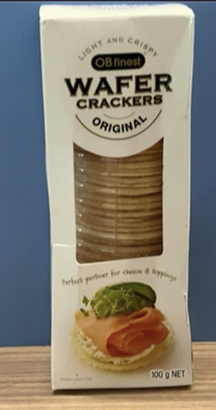crackers_150g: (55, 34, 188, 380)
